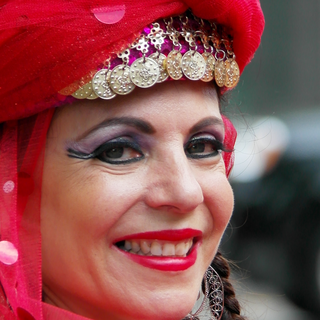eye: (94, 136, 148, 168), (183, 133, 222, 162)
